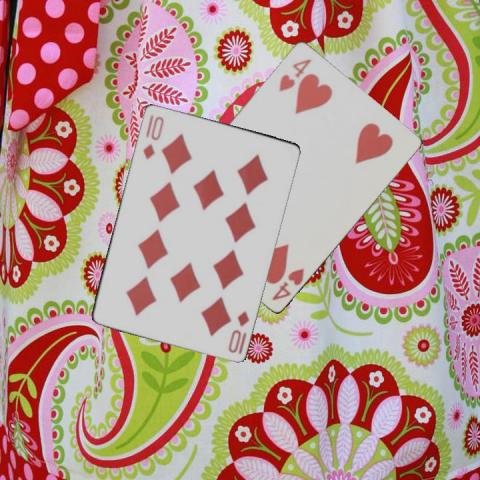10d: (139, 113, 166, 160), (224, 307, 250, 354)
4h: (275, 55, 313, 92), (269, 265, 306, 301)
